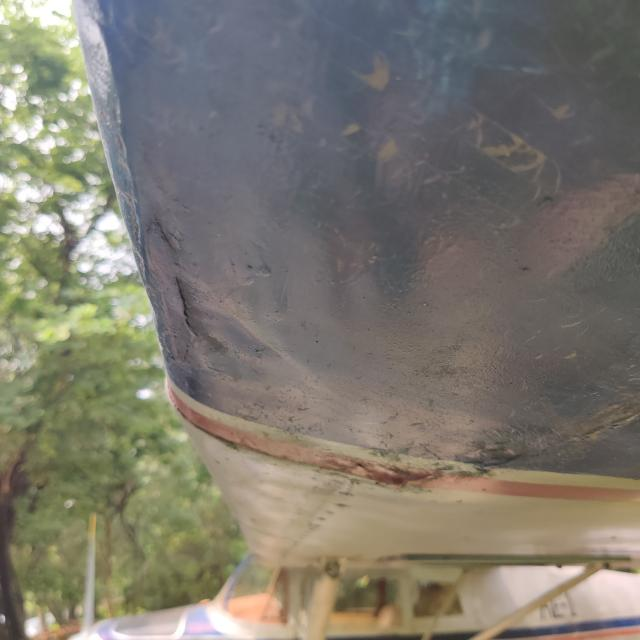dent: (192, 260, 311, 390)
